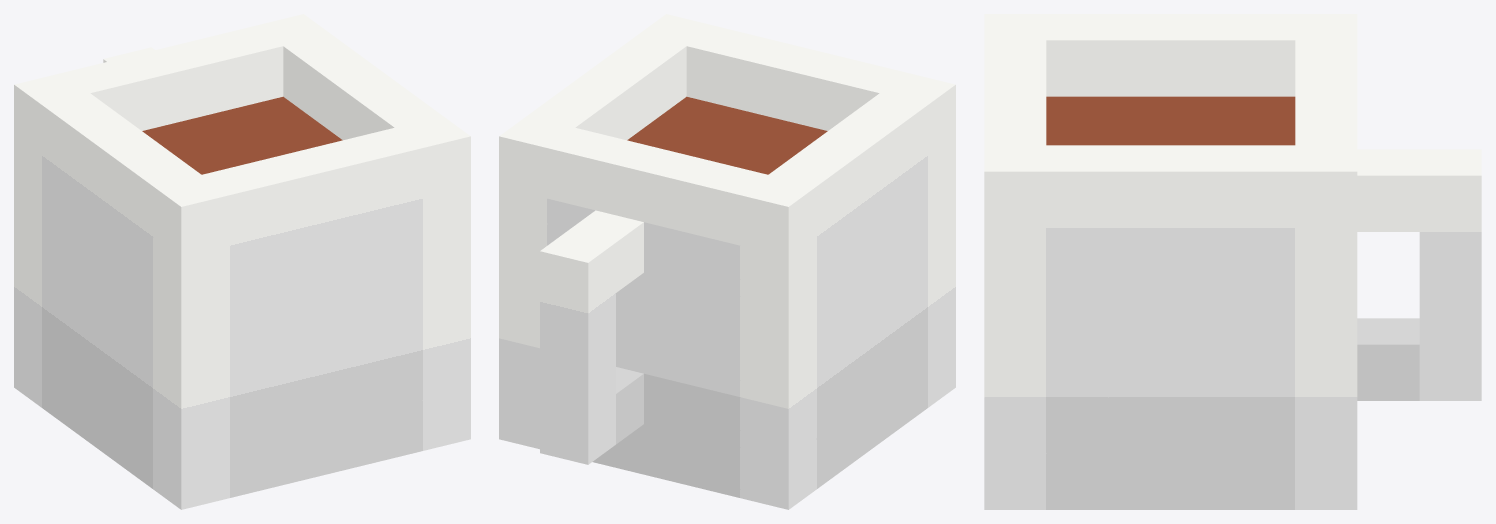
The picture shows the model from 3 angles, left to right: view 1: azimuth 30°, elevation 25°; view 2: azimuth 150°, elevation 25°; view 3: azimuth 270°, elevation 25°; orthographic projection. The views are drawn at different scales.
Parts seen in each view (by area): view 1: Object; view 2: Object; view 3: Object.
Part boxes in pixels (x1,y1,x2,y2): Object: [14, 14, 470, 509]; Object: [499, 14, 955, 509]; Object: [984, 14, 1481, 509].
Bounding box in the file's own units: 6 × 6 × 8.
1 material, 1 textured.
